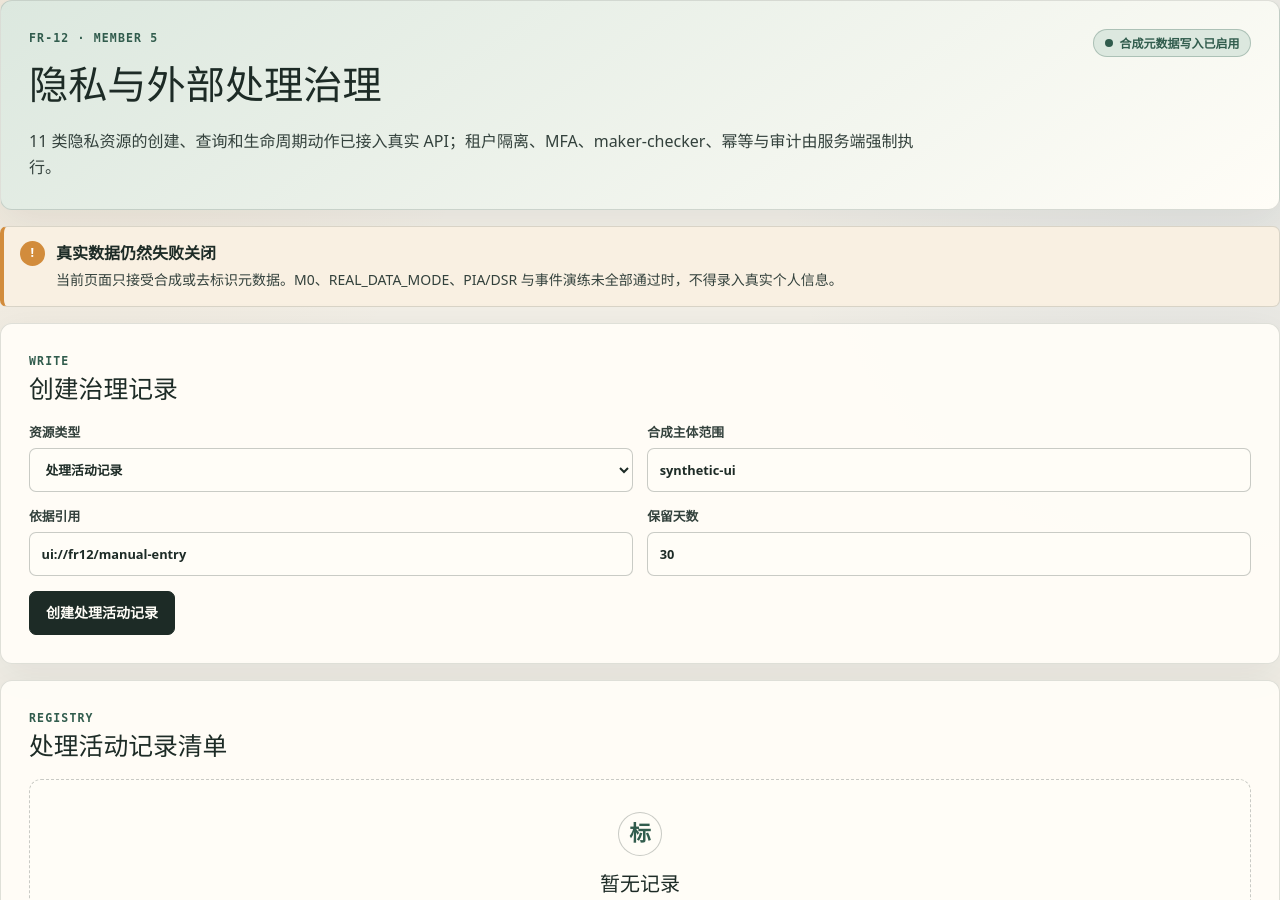
Test: member 5 feature mounts › enables FR-12 synthetic writes and sends the frozen command envelope
Expected: the heading "暂无记录" is shown, [600,868,680,899]
What coordinates should you click on to do the following:
click the button "创建处理活动记录"
I would click on:
 (102, 613)
Its box is [29,591,175,635].
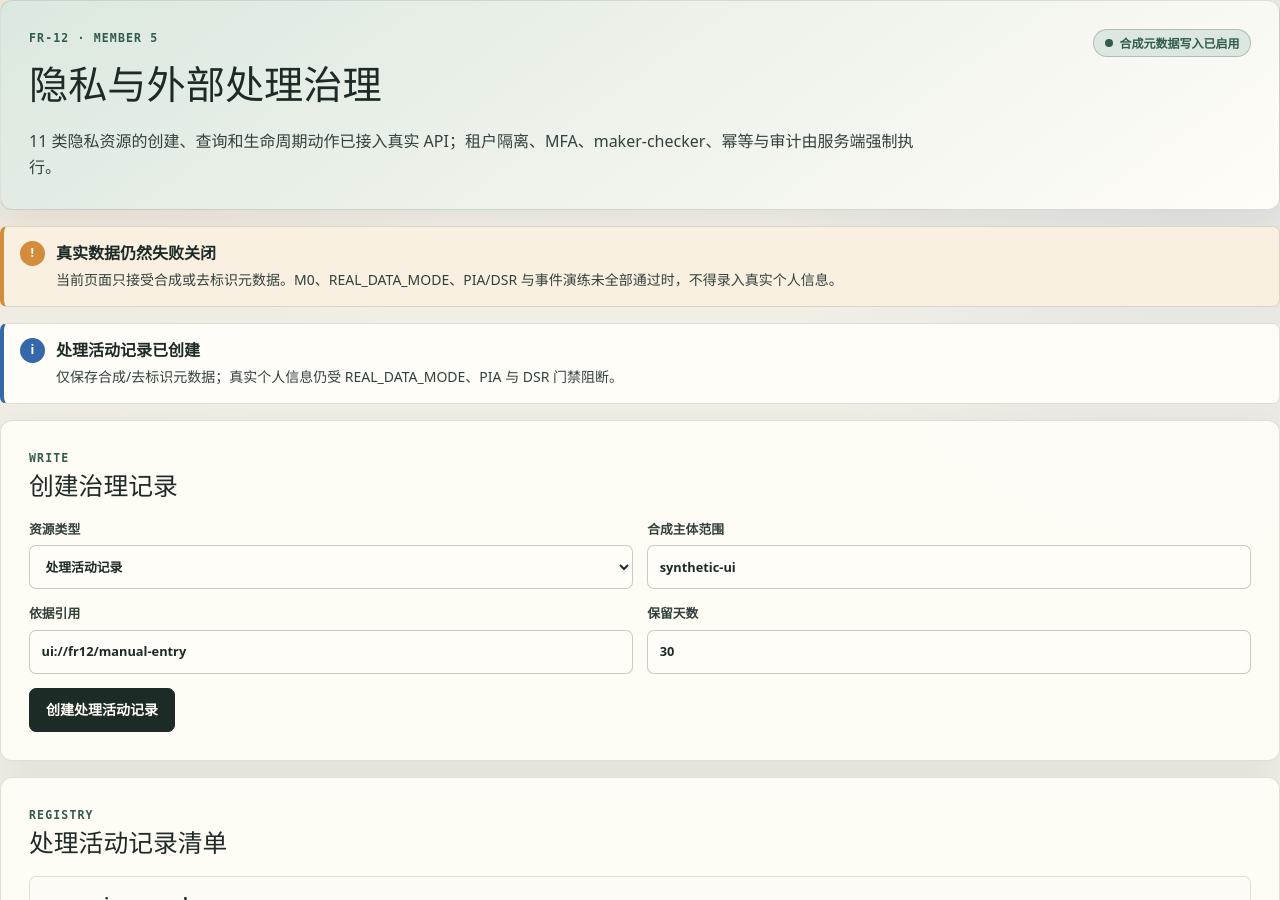
Expected: the text "处理活动记录已创建" is shown, [56,339,200,361]
